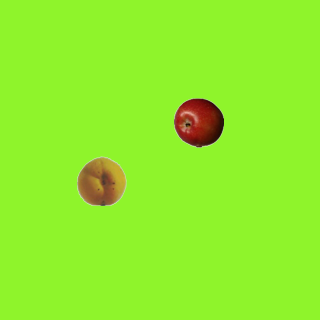Apple Braeburn: (173, 97, 223, 147)
Peach 2: (76, 155, 126, 205)
